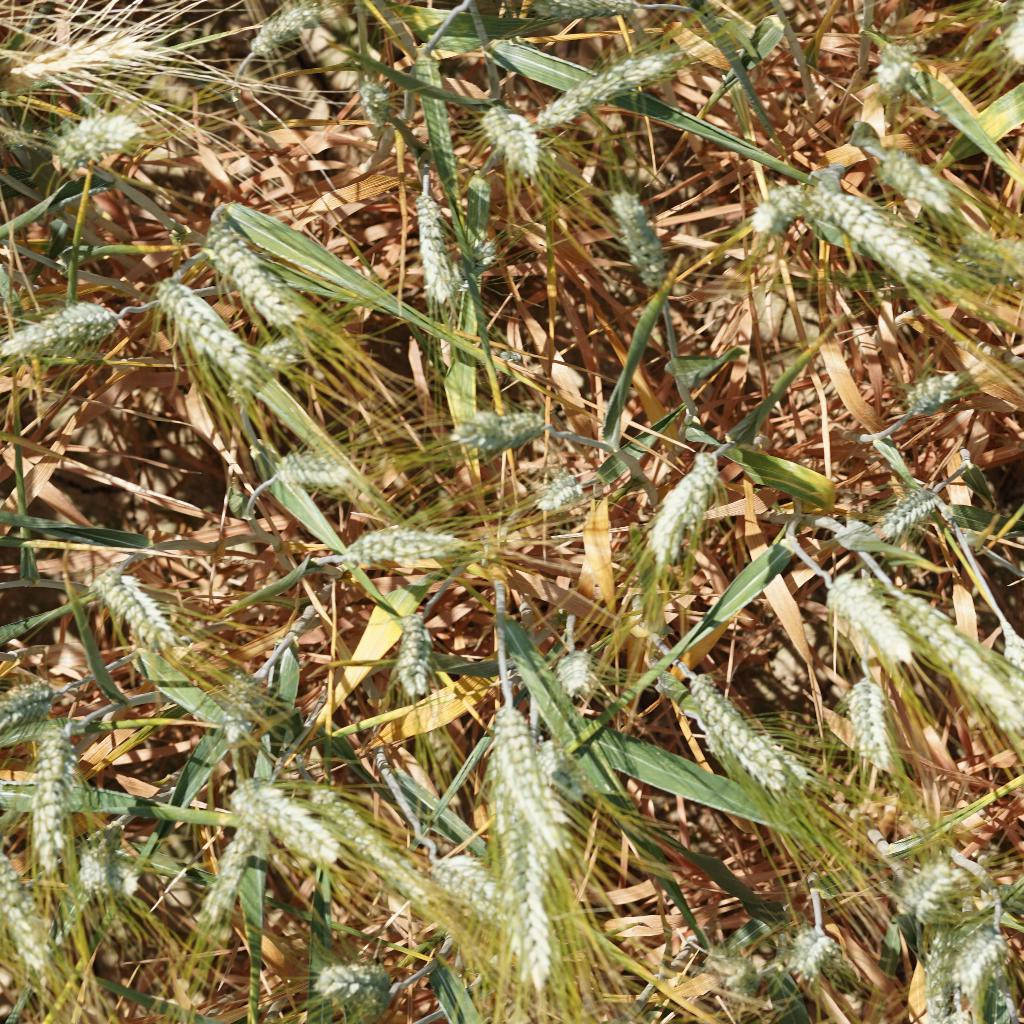0-0: (879, 582, 1024, 737), (194, 216, 335, 325), (299, 781, 425, 901), (484, 803, 565, 985), (675, 662, 788, 789), (479, 697, 574, 848), (142, 279, 269, 391), (811, 183, 935, 288), (636, 444, 727, 570), (219, 777, 340, 871), (608, 169, 683, 314), (806, 565, 908, 671), (534, 53, 687, 115), (19, 26, 167, 90), (0, 292, 141, 359), (21, 722, 83, 873), (425, 840, 529, 922), (191, 818, 272, 920), (336, 514, 473, 574), (90, 565, 180, 656), (869, 135, 964, 221), (0, 878, 70, 980), (393, 180, 452, 299), (780, 912, 866, 993), (243, 0, 333, 77), (732, 153, 806, 243), (837, 668, 903, 768), (309, 956, 406, 1024), (49, 105, 150, 169), (904, 856, 983, 931), (912, 913, 965, 1024), (208, 656, 272, 742), (477, 100, 553, 171), (382, 604, 437, 701), (271, 444, 350, 508), (70, 830, 138, 899), (942, 225, 1024, 281), (957, 926, 1017, 997), (879, 475, 942, 541), (462, 400, 545, 449), (0, 671, 67, 729), (445, 223, 505, 286), (894, 369, 972, 417), (712, 938, 766, 1005), (871, 34, 925, 98), (523, 460, 590, 511), (530, 0, 644, 26), (552, 643, 595, 692)
